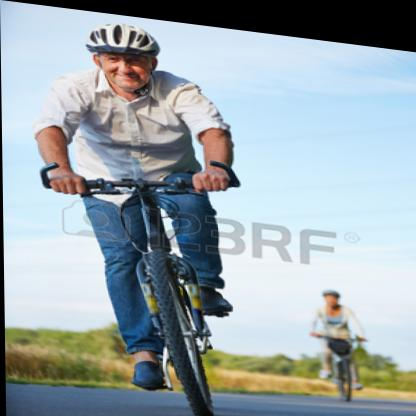With Helmet: (82, 13, 163, 91)
